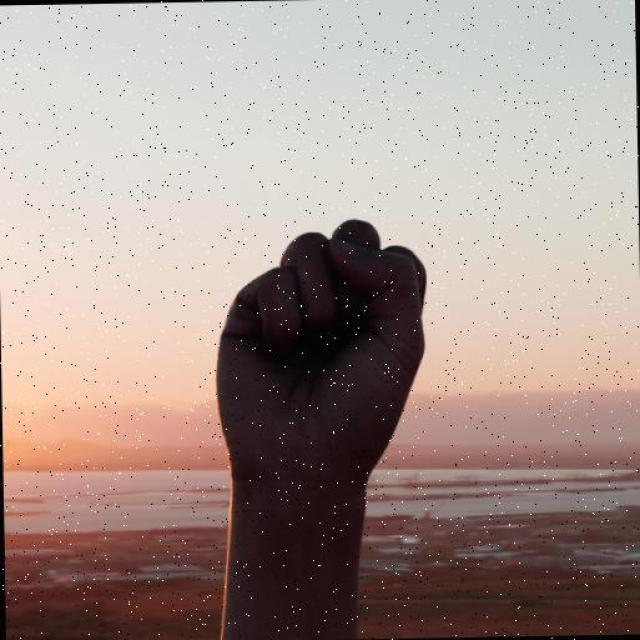S: (204, 213, 435, 488)
